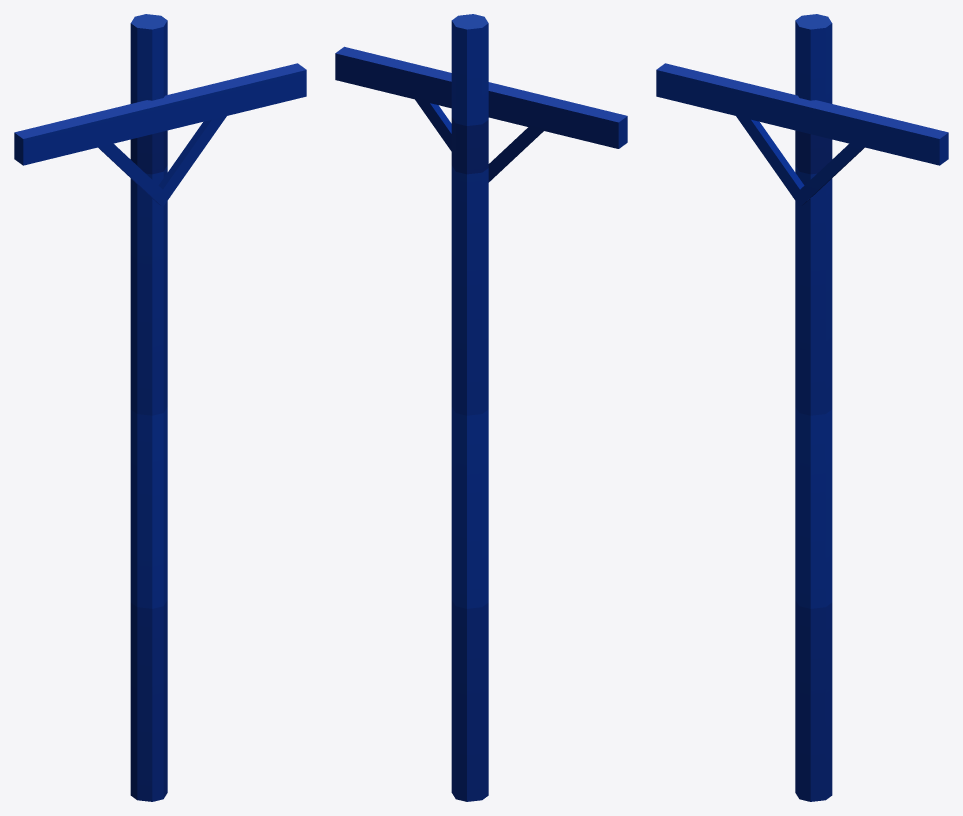
Rendered from Pilone_Electrique.fbx.
3 views of the same model, side by side, from view 1: azimuth 30°, elevation 25°; view 2: azimuth 150°, elevation 25°; view 3: azimuth 330°, elevation 25° (orthographic).
Visible parts, largest first — view 1: Cube, Cube.001, Cube.002; view 2: Cube, Cube.001, Cube.002; view 3: Cube, Cube.001, Cube.002.
Part boxes in pixels (box(x1,y1,x2,y2)): Cube: box(130, 14, 167, 801); Cube.001: box(14, 63, 306, 165); Cube.002: box(98, 116, 226, 206); Cube: box(451, 14, 488, 801); Cube.001: box(335, 46, 627, 148); Cube.002: box(415, 99, 543, 182); Cube: box(795, 14, 832, 801); Cube.001: box(656, 63, 948, 165); Cube.002: box(736, 116, 864, 206).
Size of the model in its own units: 266 by 693 by 39.99.
